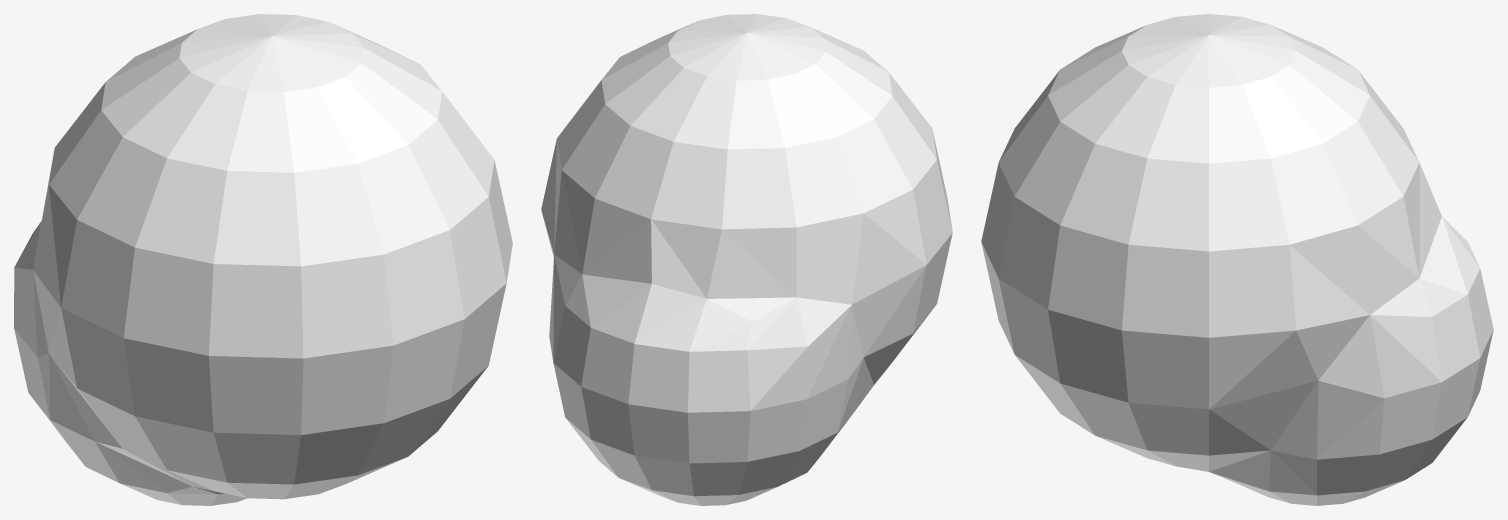
The model's file is smoke.obj.
3 views of the same model, side by side, from view 1: azimuth 30°, elevation 25°; view 2: azimuth 150°, elevation 25°; view 3: azimuth 270°, elevation 25° (orthographic). The views are drawn at different scales.
Visible parts, largest first — view 1: 球.001; view 2: 球.001; view 3: 球.001.
Part boxes in pixels (x1,y1,x2,y2): 球.001: [14, 14, 512, 505]; 球.001: [541, 14, 952, 505]; 球.001: [981, 14, 1493, 505].
Size of the model in its own units: 2 by 2.23 by 2.25.
1 material, 1 textured.
